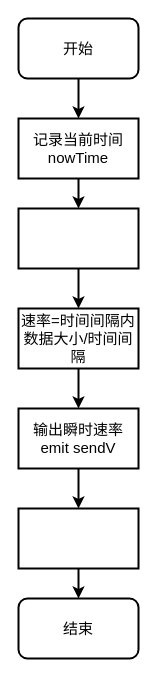
This 156x676 diagram has some shape labels left out. Each missing label, with the box of its shape:
timePoint = nowTime: (17, 507, 139, 569)
时间间隔:nowTime-timePoint: (17, 207, 139, 269)
